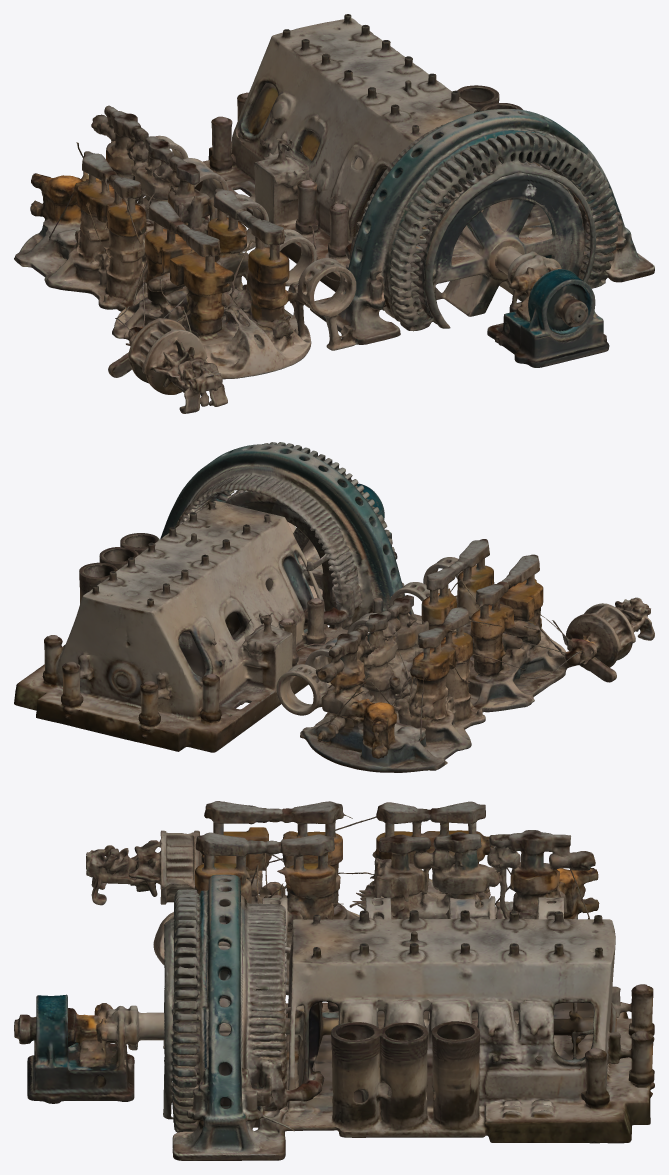
The model's file is maqui (2).glb.
The picture shows the model from 3 angles, top to bottom: view 1: azimuth 30°, elevation 25°; view 2: azimuth 150°, elevation 25°; view 3: azimuth 270°, elevation 25°; orthographic projection. The views are drawn at different scales.
Size of the model in its own units: 1.9 by 0.6144 by 1.86.
Materials: 1 (1 with a texture image).
